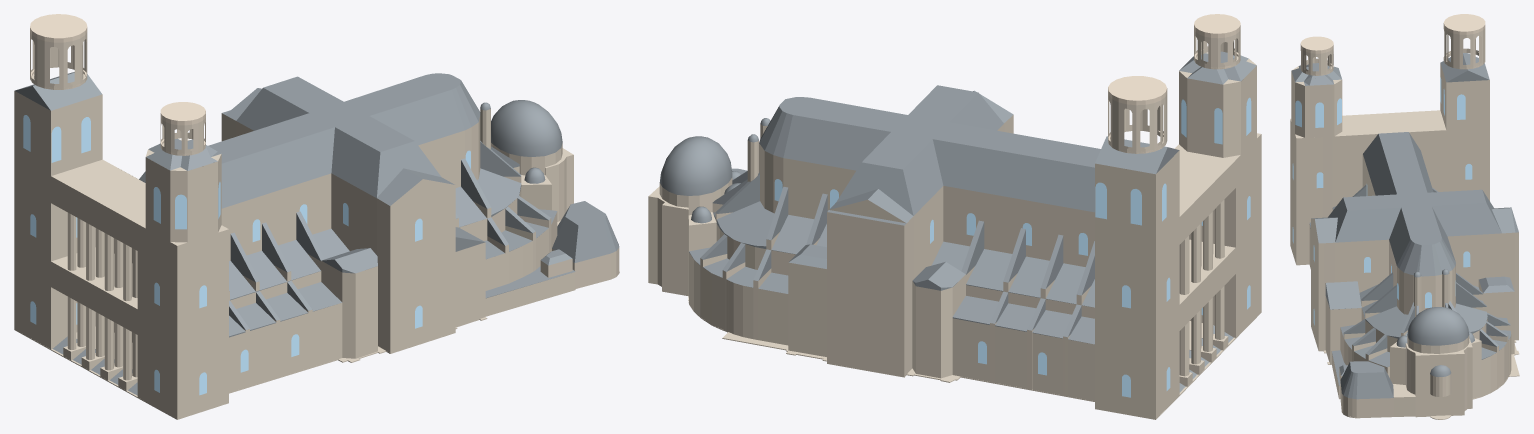
3 views of the same model, side by side, from view 1: azimuth 30°, elevation 25°; view 2: azimuth 150°, elevation 25°; view 3: azimuth 270°, elevation 25° (orthographic). The views are drawn at different scales.
Visible parts, largest first — view 1: stone, roof, window, trim; view 2: stone, roof, window, trim; view 3: stone, roof, window, trim.
Part boxes in pixels (bbox=[...]): stone: bbox=[14, 32, 619, 419]; roof: bbox=[15, 72, 619, 395]; window: bbox=[23, 115, 470, 395]; trim: bbox=[30, 14, 205, 155]; stone: bbox=[648, 29, 1261, 419]; roof: bbox=[659, 51, 1256, 392]; window: bbox=[774, 97, 1251, 397]; trim: bbox=[1108, 14, 1240, 153]; stone: bbox=[1290, 26, 1519, 419]; roof: bbox=[1291, 53, 1518, 399]; window: bbox=[1292, 77, 1472, 325]; trim: bbox=[1300, 14, 1485, 75].
Bounding box in the file's own units: 125 × 70.3 × 65.58.
